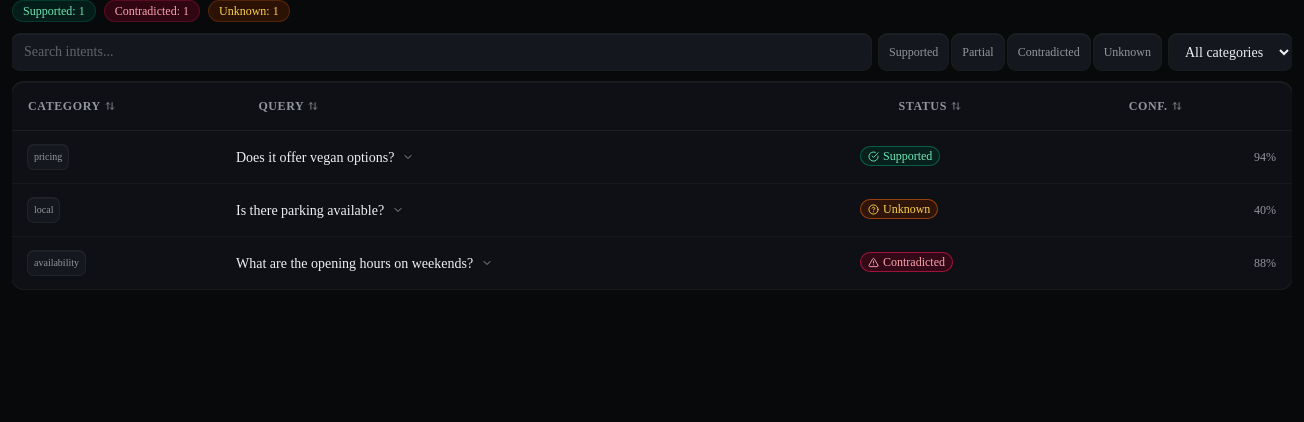
Scenario: IntentMatrix - row expansion › clicking a row expands it (aria-expanded becomes true)
Click the row with test id "intent-row-int_1" at (652, 157), box [12,130,1292,184]
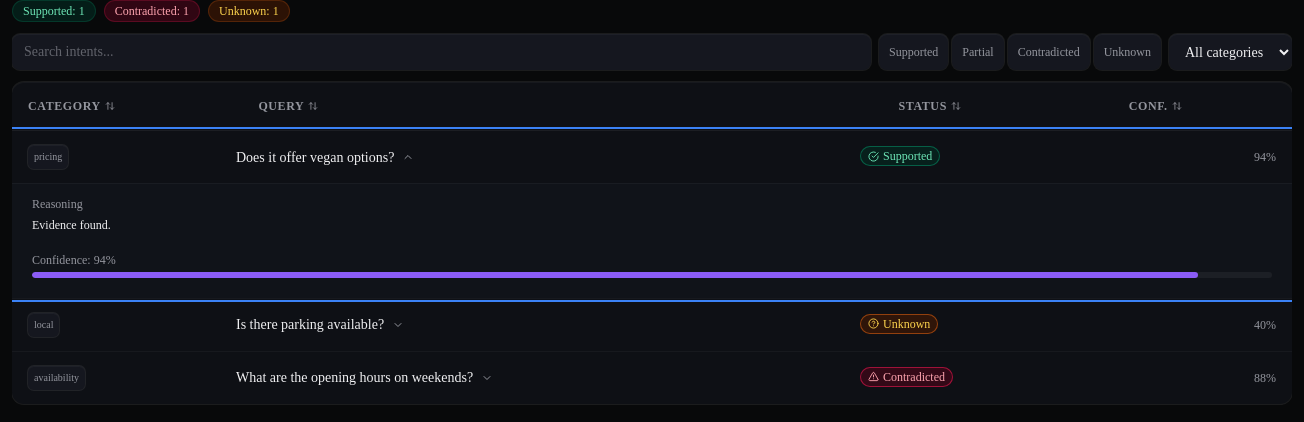
Expected: the row with test id "intent-row-int_1" is expanded, [12,130,1292,298]
